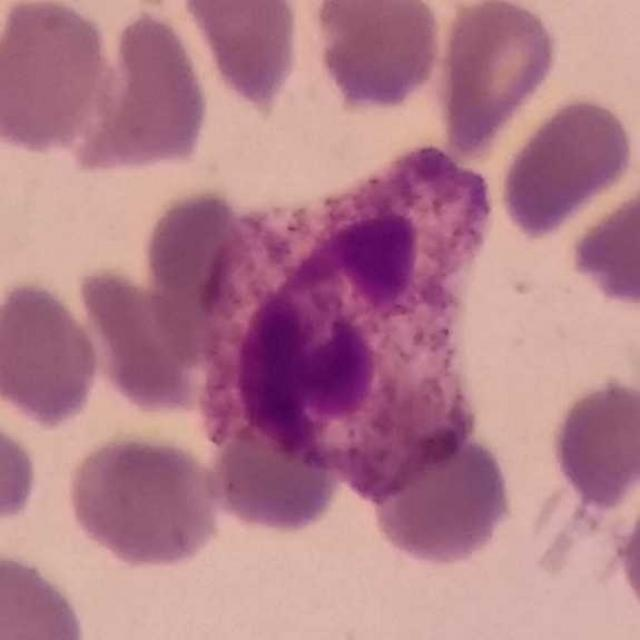Neutrophil: (179, 144, 509, 506)
RBC: (72, 260, 226, 418), (62, 428, 226, 572), (363, 424, 516, 571), (84, 3, 212, 177), (495, 92, 637, 242), (432, 0, 563, 159), (202, 408, 348, 538), (0, 0, 117, 157), (139, 184, 256, 335), (0, 274, 106, 431), (305, 0, 446, 114), (178, 0, 304, 115), (546, 374, 640, 510), (564, 161, 640, 314), (0, 545, 91, 639), (0, 389, 43, 537), (613, 468, 640, 634)
